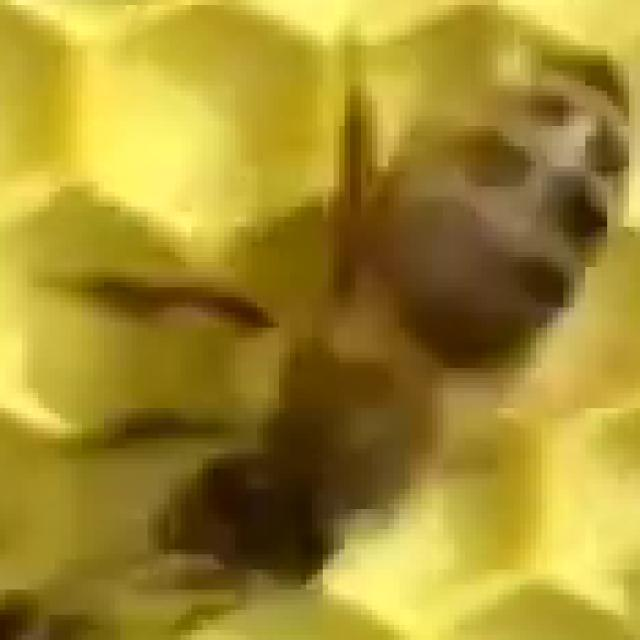honeybee: (126, 66, 628, 554)
